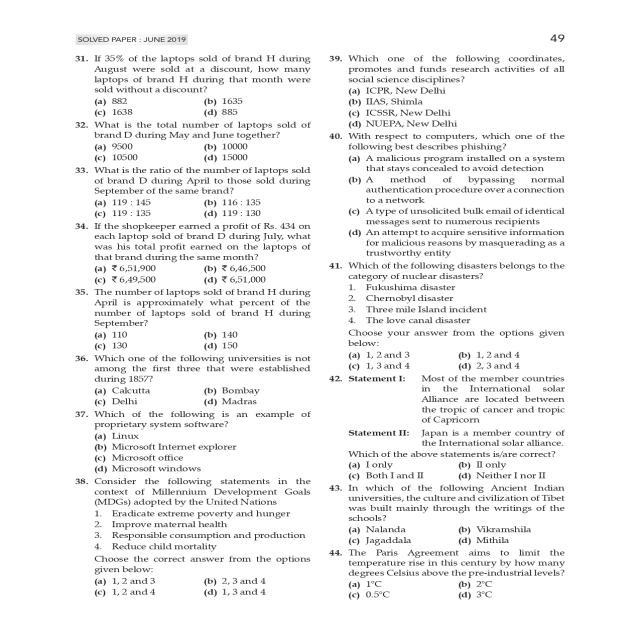Answer_Block: (326, 152, 580, 260), (60, 428, 318, 476), (326, 84, 580, 132), (60, 260, 318, 290), (60, 194, 318, 223), (60, 326, 318, 354), (60, 381, 318, 408), (60, 94, 318, 120), (326, 575, 580, 600), (60, 140, 318, 164), (60, 576, 318, 600), (326, 458, 580, 482), (326, 524, 580, 548), (326, 348, 580, 370)
Question_Answer_Block: (326, 129, 580, 259), (60, 474, 318, 599), (326, 256, 580, 374), (326, 370, 580, 482), (326, 46, 580, 130), (60, 45, 318, 119), (60, 406, 318, 476), (60, 286, 318, 354), (326, 479, 580, 548), (60, 222, 318, 288), (60, 163, 318, 223), (60, 352, 318, 410), (326, 547, 580, 599), (60, 115, 318, 165)
Question_Block: (60, 474, 318, 575), (326, 256, 580, 349), (326, 370, 580, 462), (60, 44, 318, 92), (60, 286, 318, 330), (326, 480, 580, 524), (326, 480, 580, 524), (60, 222, 318, 262), (326, 46, 580, 86), (60, 163, 318, 197), (60, 352, 318, 384), (326, 546, 580, 578), (326, 129, 580, 154), (60, 116, 318, 140), (60, 406, 318, 429)
Question_Paper_Area: (60, 45, 318, 600), (326, 45, 580, 600)
